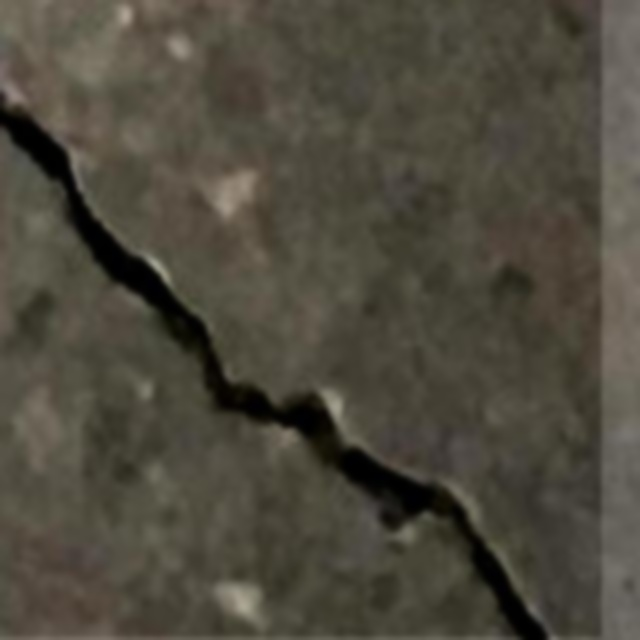SurfaceCrack: (16, 64, 608, 640)
